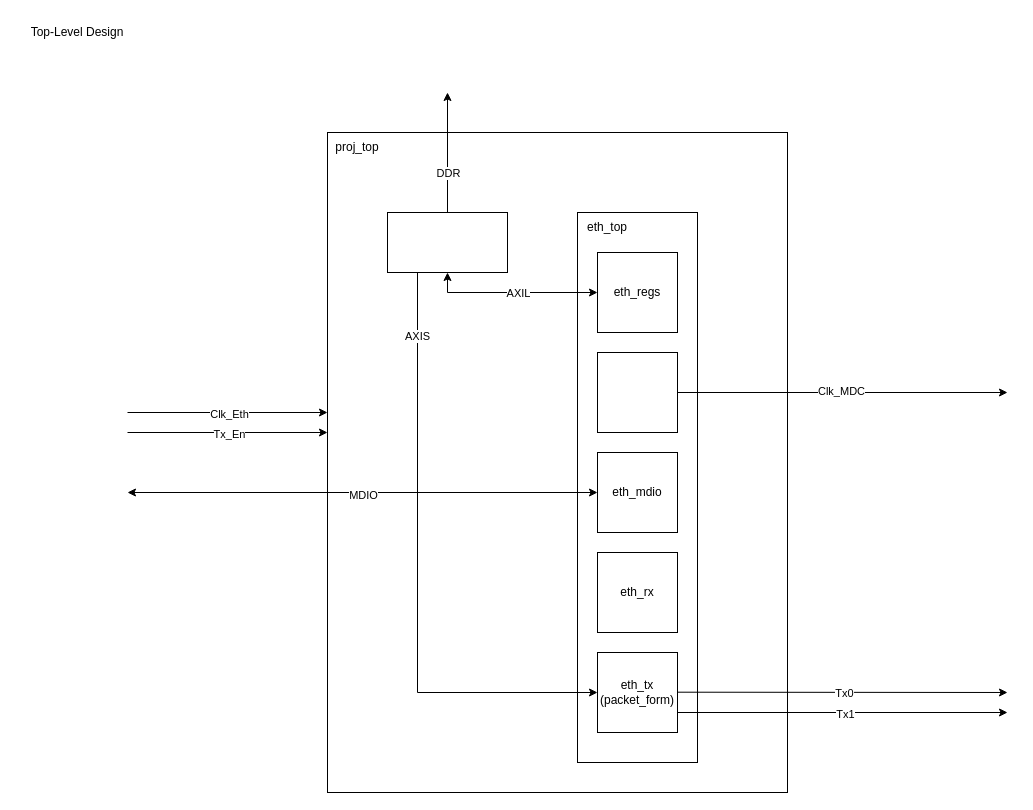
Image size: 1033x810. Some labels were removed from this diagram. Each missing label, with the centre of its shape:
"bd_wrapper" goes at point 447,242.
"clk_rst_mgr" goes at point 637,392.
